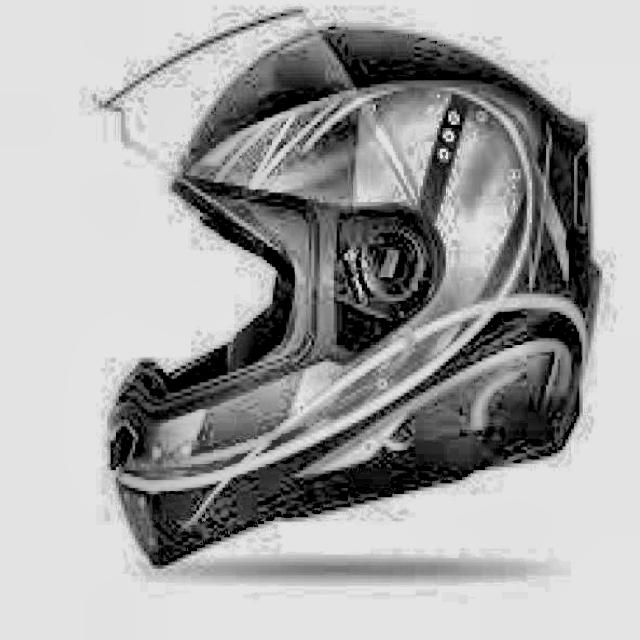Helmet: (109, 26, 598, 566)
